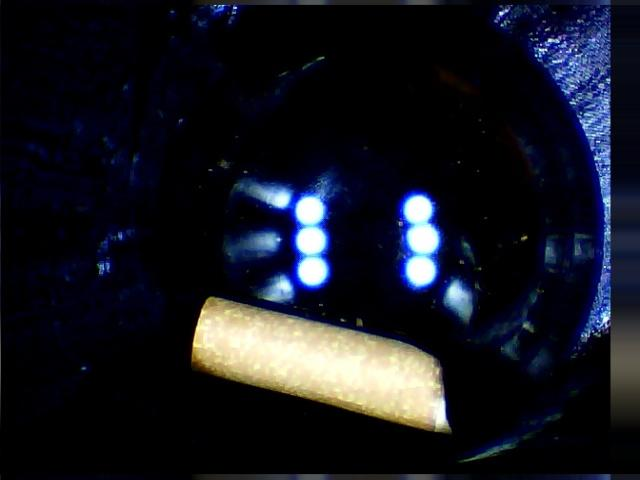megot: (182, 286, 462, 438)
